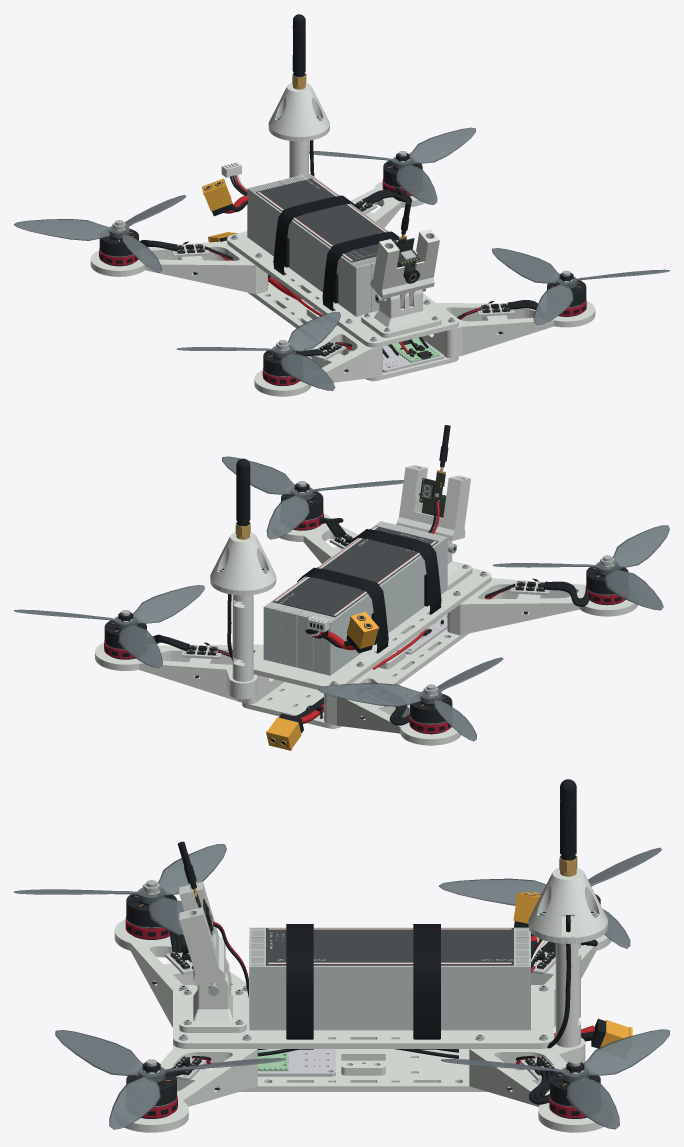
Rendered from quadcopter.glb.
The picture shows the model from 3 angles, top to bottom: view 1: azimuth 30°, elevation 25°; view 2: azimuth 150°, elevation 25°; view 3: azimuth 270°, elevation 25°; orthographic projection. The views are drawn at different scales.
Visible parts, largest first — view 1: Battery silver pouch cell 1, STL frame | Updated front right printed arm, STL frame | Updated rear left printed arm, Battery top dark printed wrapper, STL frame | Upper battery deck, STL frame | Updated front left printed arm, FPVAIO | exact supplied printed holder, STL frame | Antenna conical cover, STL frame | Updated rear right arm and integral antenna mast, STL frame | Updated lower chassis tray, Motor 3 smoked prop blade 2, Wide black battery retention strap.001 (+13 smaller); view 2: STL frame | Updated rear right arm and integral antenna mast, STL frame | Updated front left printed arm, Battery silver pouch cell 1, Battery top dark printed wrapper, STL frame | Upper battery deck, STL frame | Updated lower chassis tray, STL frame | Updated rear left printed arm, FPVAIO | exact supplied printed holder, STL frame | Antenna conical cover, Motor 3 smoked prop blade 1, Wide black battery retention strap, Wide black battery retention strap.001 (+18 smaller); view 3: Battery silver pouch cell 4, STL frame | Upper battery deck, STL frame | Updated rear right arm and integral antenna mast, Battery top dark printed wrapper, STL frame | Updated lower chassis tray, STL frame | Updated front right printed arm, STL frame | Antenna conical cover, Wide black battery retention strap, Wide black battery retention strap.001, FPVAIO | exact supplied printed holder, STL frame | Updated front left printed arm, Motor 2 smoked prop blade 3 (+22 smaller).
Part boxes in pixels (left/top/right/bottom): Battery silver pouch cell 1: left=247, top=184, right=371, bottom=316; STL frame | Updated front right printed arm: left=422, top=301, right=595, bottom=358; STL frame | Updated rear left printed arm: left=90, top=240, right=267, bottom=294; Battery top dark printed wrapper: left=255, top=178, right=397, bottom=262; STL frame | Upper battery deck: left=227, top=231, right=458, bottom=347; STL frame | Updated front left printed arm: left=254, top=325, right=382, bottom=396; FPVAIO | exact supplied printed holder: left=370, top=229, right=439, bottom=308; STL frame | Antenna conical cover: left=268, top=82, right=329, bottom=136; STL frame | Updated rear right arm and integral antenna mast: left=268, top=125, right=424, bottom=227; STL frame | Updated lower chassis tray: left=248, top=282, right=458, bottom=380; Motor 3 smoked prop blade 2: left=14, top=219, right=110, bottom=240; Wide black battery retention strap.001: left=273, top=195, right=358, bottom=275; STL frame | Updated rear right arm and integral antenna mast: left=95, top=578, right=284, bottom=704; STL frame | Updated front left printed arm: left=447, top=577, right=637, bottom=635; Battery silver pouch cell 1: left=314, top=533, right=447, bottom=675; Battery top dark printed wrapper: left=272, top=526, right=438, bottom=617; STL frame | Upper battery deck: left=253, top=568, right=491, bottom=689; STL frame | Updated lower chassis tray: left=242, top=629, right=468, bottom=728; STL frame | Updated rear left printed arm: left=324, top=669, right=461, bottom=745; FPVAIO | exact supplied printed holder: left=396, top=465, right=470, bottom=540; STL frame | Antenna conical cover: left=210, top=532, right=276, bottom=590; Motor 3 smoked prop blade 1: left=317, top=683, right=421, bottom=706; Wide black battery retention strap: left=350, top=529, right=441, bottom=614; Wide black battery retention strap.001: left=297, top=567, right=388, bottom=653; Battery silver pouch cell 4: left=249, top=957, right=530, bottom=1030; STL frame | Upper battery deck: left=173, top=985, right=554, bottom=1048; STL frame | Updated rear right arm and integral antenna mast: left=469, top=916, right=607, bottom=1132; Battery top dark printed wrapper: left=266, top=928, right=513, bottom=965; STL frame | Updated lower chassis tray: left=239, top=1049, right=487, bottom=1091; STL frame | Updated front right printed arm: left=124, top=1044, right=257, bottom=1132; STL frame | Antenna conical cover: left=528, top=868, right=607, bottom=937; Wide black battery retention strap: left=286, top=924, right=313, bottom=1049; Wide black battery retention strap.001: left=413, top=924, right=440, bottom=1049; FPVAIO | exact supplied printed holder: left=179, top=881, right=231, bottom=994; STL frame | Updated front left printed arm: left=114, top=919, right=246, bottom=1027; Motor 2 smoked prop blade 3: left=55, top=1030, right=142, bottom=1075.
Size of the model in its own units: 0.3179 by 0.1608 by 0.3097.
